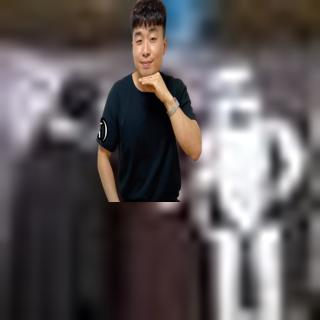WAIT: (135, 70, 171, 101)
